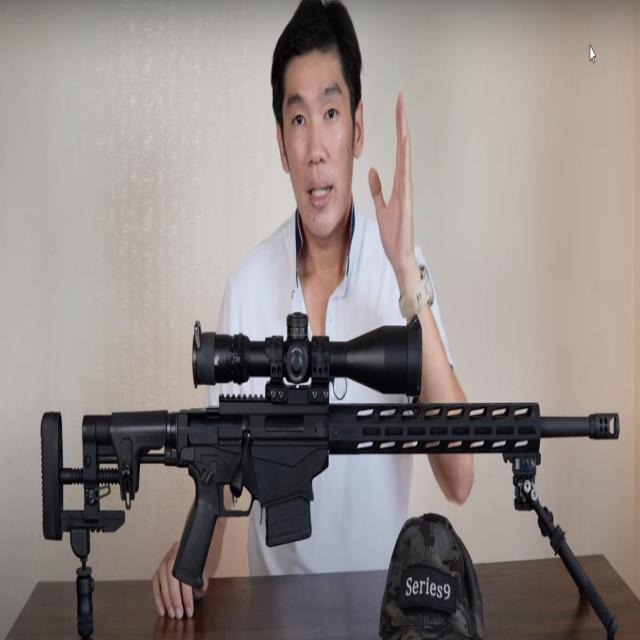rifle: (32, 306, 624, 640)
